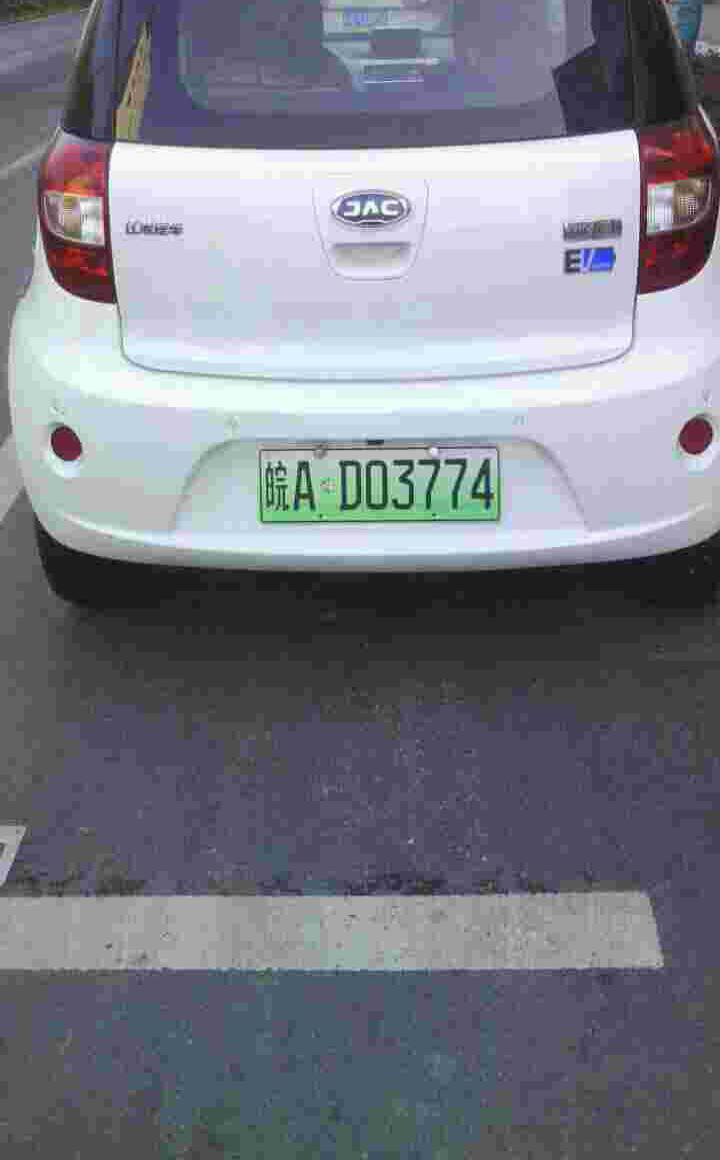car: (261, 442, 514, 534)
